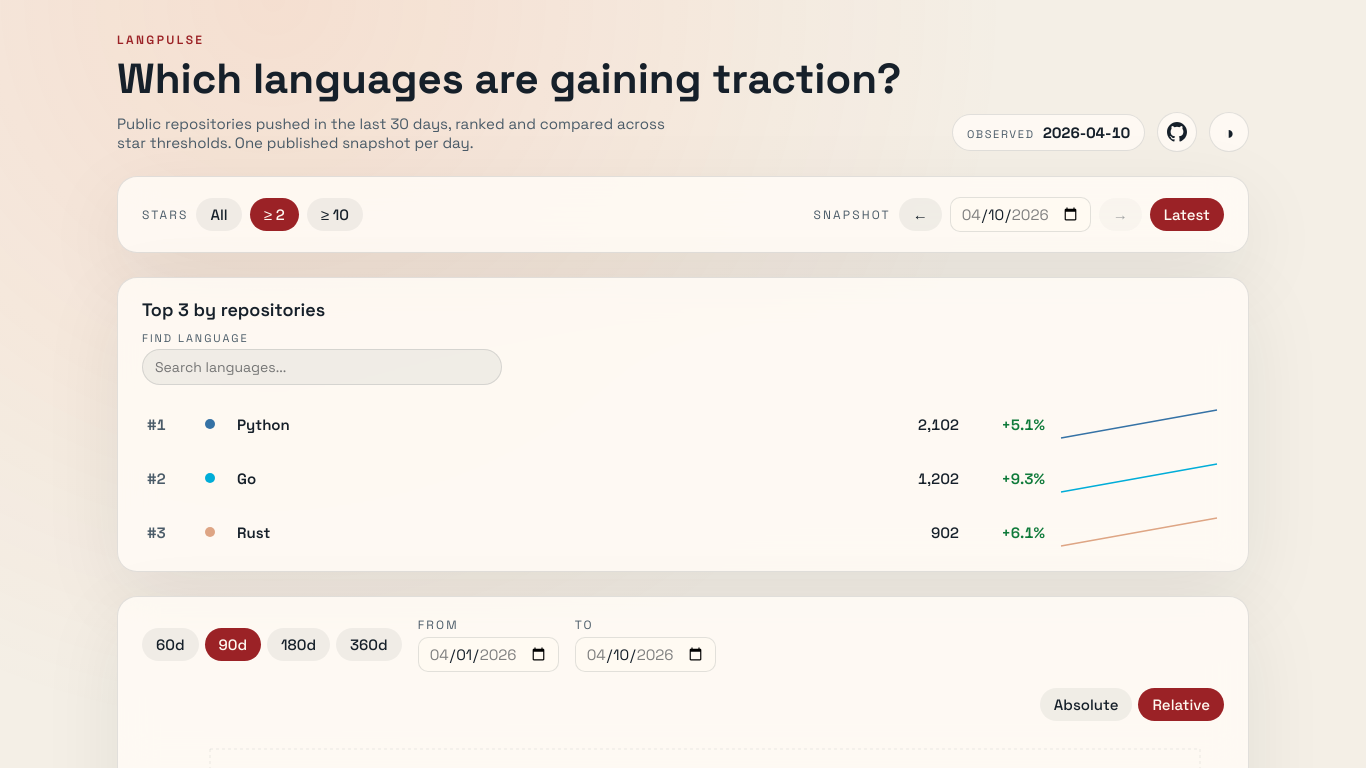
Test: App › pins a language into the comparison chart when a row is clicked
The width and height of the screenshot is (1366, 768).
Click the button with aria-label "Go, 1,202 repositories": click(938, 478) x1=147 y1=462 x2=1219 y2=494
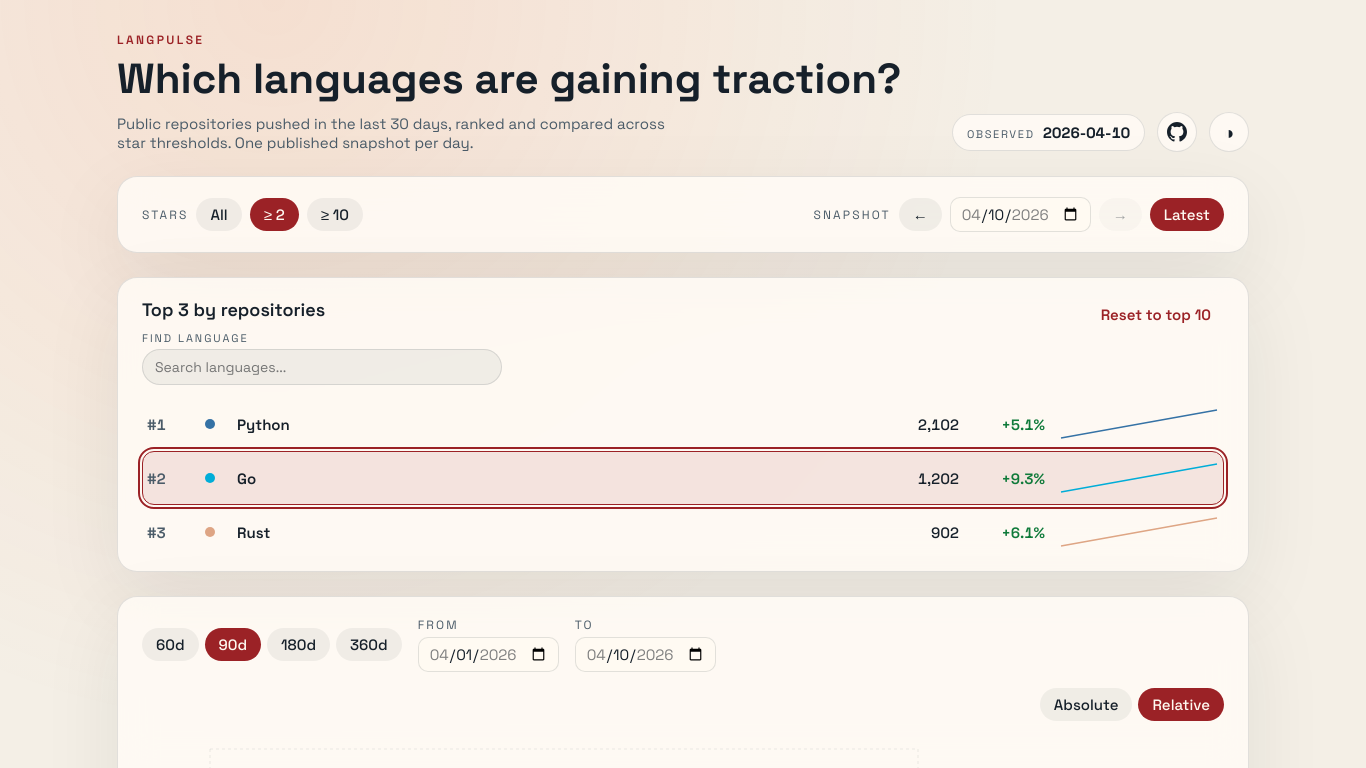
Now the button "Reset to top 10" is shown, box x1=1088 y1=298 x2=1224 y2=331
